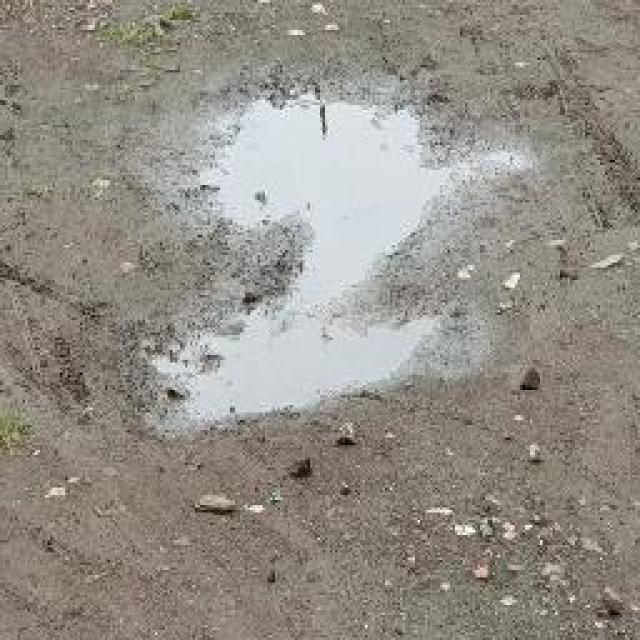stagnation: (154, 64, 482, 424)
